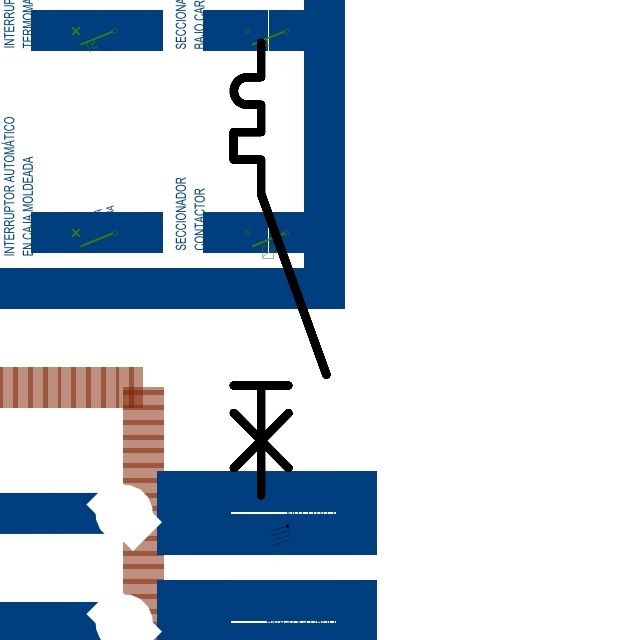interruptor_termomagnetico: (222, 31, 338, 507)
